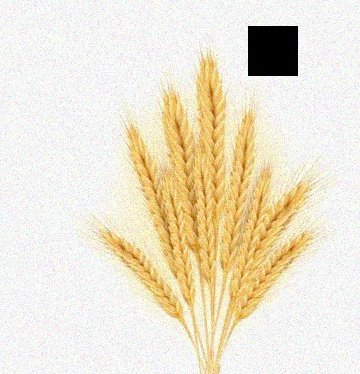wheat: (123, 113, 194, 315), (237, 163, 328, 311), (76, 213, 185, 327), (158, 71, 208, 291), (185, 51, 226, 293), (215, 98, 257, 285), (229, 156, 273, 295)
